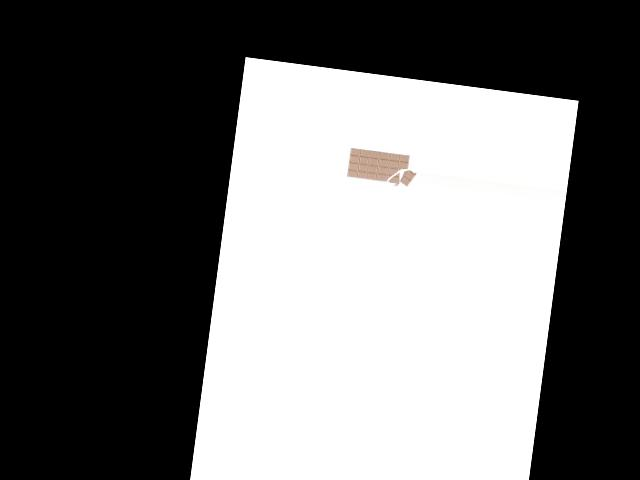chocolate: (344, 142, 419, 194)
